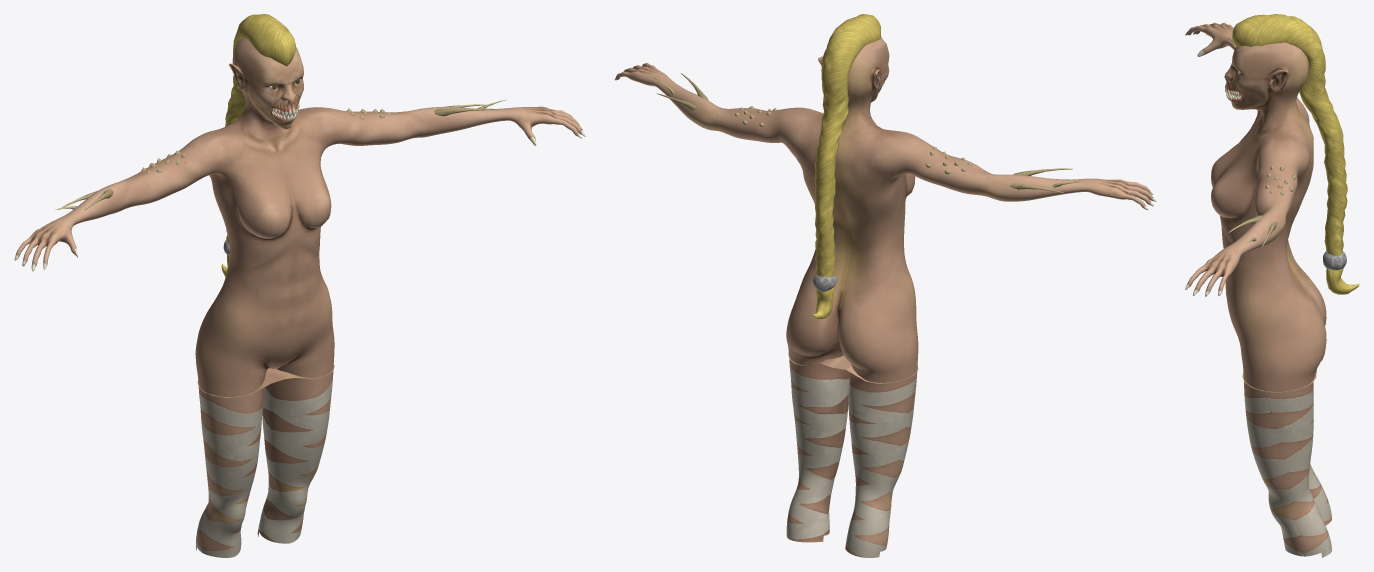
File: Lina_Fixed_con_Plano.fbx
3 views of the same model, side by side, from view 1: azimuth 30°, elevation 25°; view 2: azimuth 150°, elevation 25°; view 3: azimuth 270°, elevation 25° (orthographic). The views are drawn at different scales.
Visible parts, largest first — view 1: body_low, hair_low; view 2: body_low, hair_low; view 3: body_low, hair_low.
Boxes of the visible parts, x1,y1,x2,y2 form: body_low: (14, 38, 585, 557); hair_low: (221, 14, 295, 277); body_low: (614, 37, 1156, 557); hair_low: (812, 14, 881, 319); body_low: (1185, 22, 1331, 557); hair_low: (1232, 14, 1359, 294).
Size of the model in its own units: 159 by 145 by 44.03.
